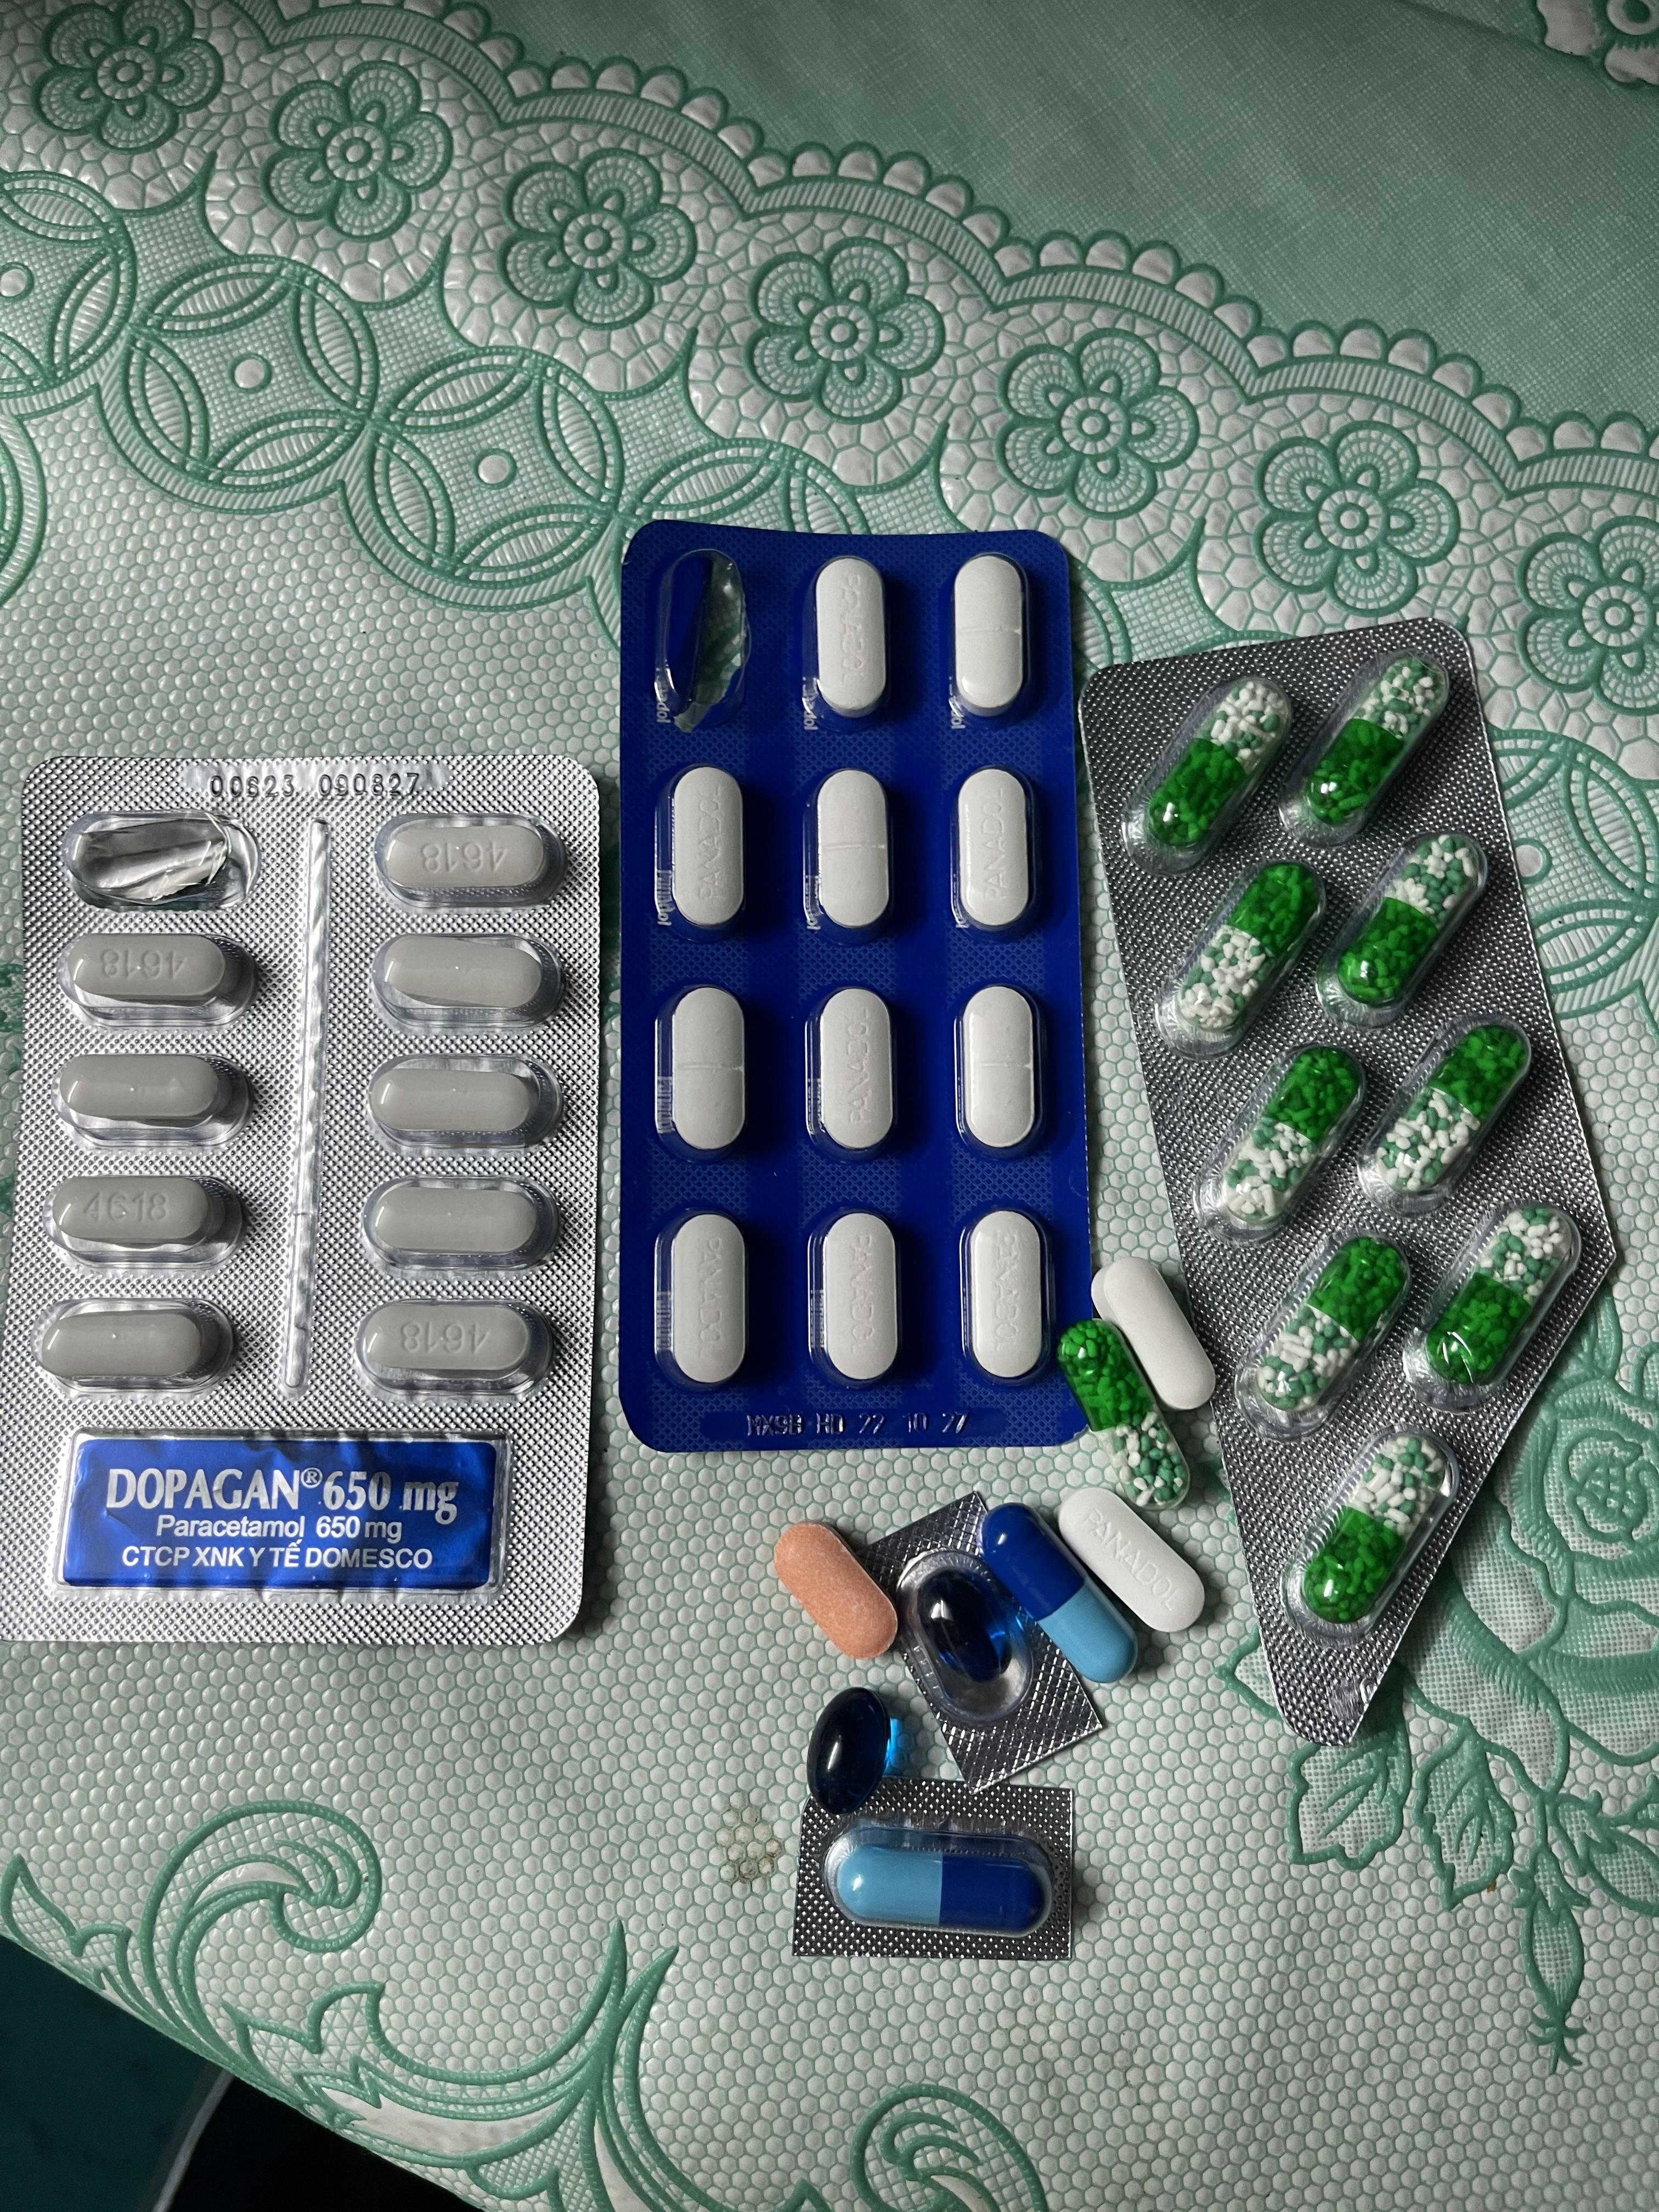Lincomyxin_500mg: (805, 1685, 897, 1819), (916, 1568, 1010, 1683)
Loratadine_10mg: (773, 1525, 898, 1657)
Paracetamol_350mg: (807, 1211, 904, 1387), (1065, 1489, 1193, 1621), (805, 986, 900, 1161), (956, 983, 1046, 1161), (961, 1210, 1051, 1381), (807, 769, 894, 938), (954, 768, 1040, 938), (663, 986, 747, 1158), (666, 1214, 748, 1387), (951, 555, 1030, 722), (667, 766, 746, 927), (812, 559, 888, 723)
Paracetamol_500mg: (355, 1299, 548, 1399), (33, 1297, 234, 1392), (52, 1049, 250, 1145), (61, 931, 256, 1028), (46, 1175, 242, 1268), (362, 1175, 556, 1269), (373, 930, 559, 1028), (366, 1053, 556, 1147), (1092, 1257, 1209, 1407), (375, 812, 558, 903)
Paracetamol_650mg: (1249, 1235, 1410, 1429), (1368, 1026, 1531, 1199), (1329, 839, 1486, 1017), (1301, 1430, 1449, 1611), (1175, 864, 1324, 1043), (1424, 1207, 1574, 1385), (1142, 680, 1293, 854), (1221, 1053, 1365, 1231), (1297, 662, 1447, 830), (1065, 1332, 1184, 1500)
pill: (824, 1819, 1060, 1936), (985, 1510, 1133, 1688)
